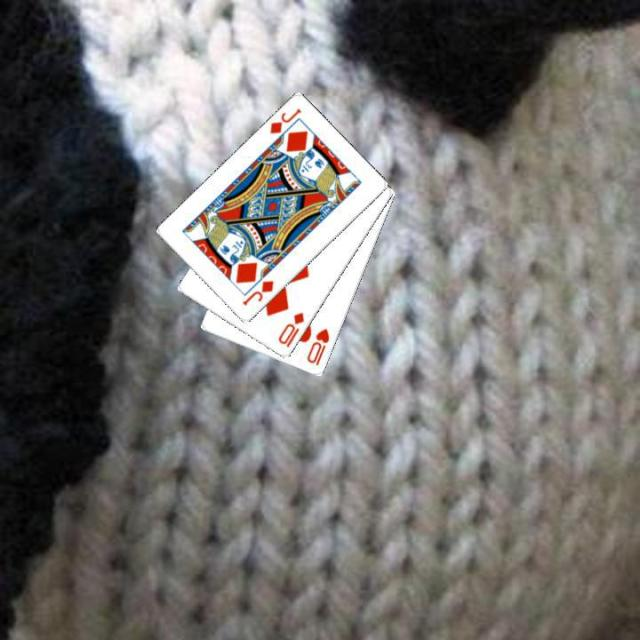10D: (274, 308, 306, 349)
10H: (303, 325, 332, 367)
JD: (238, 276, 276, 308), (266, 104, 303, 136)
